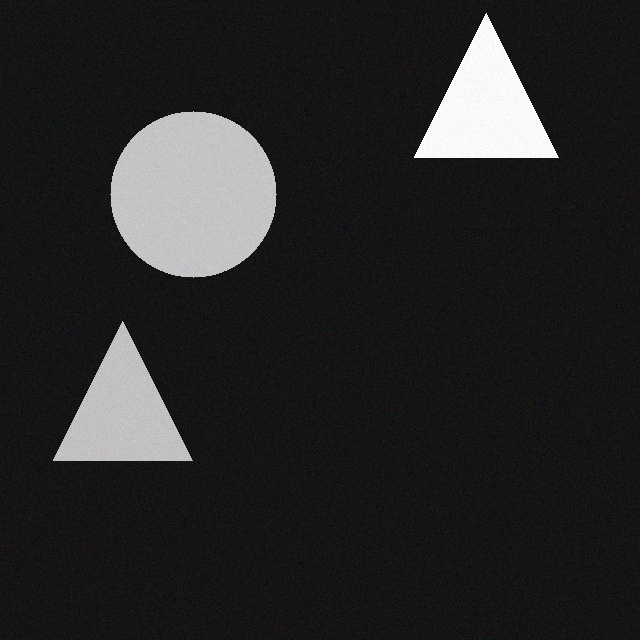circle: (108, 114, 274, 280)
triangle: (412, 16, 556, 160), (51, 324, 190, 463)
